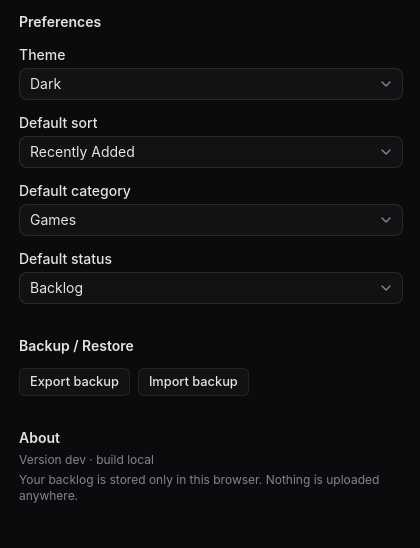
Test case: SettingsPage › exports the backlog as a downloadable backup
The width and height of the screenshot is (420, 548).
Click the button "Export backup": click(74, 382) [19,368,130,396]
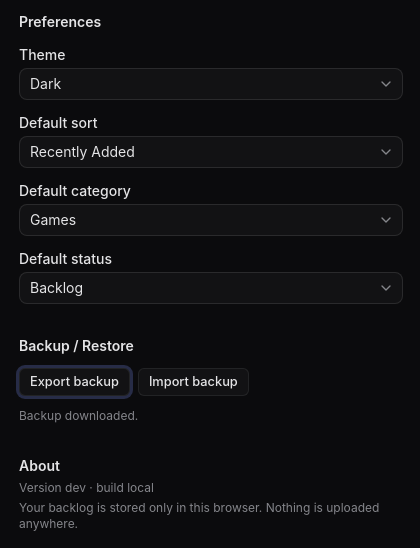
Now the text "Backup downloaded." is shown, box [19,408,138,423]
